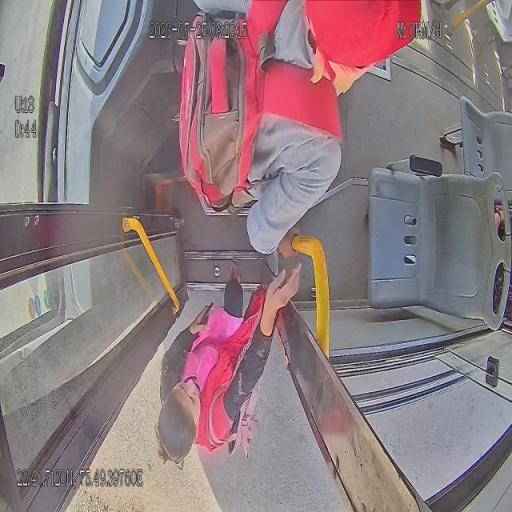persona: (178, 1, 376, 257), (156, 260, 302, 468)
